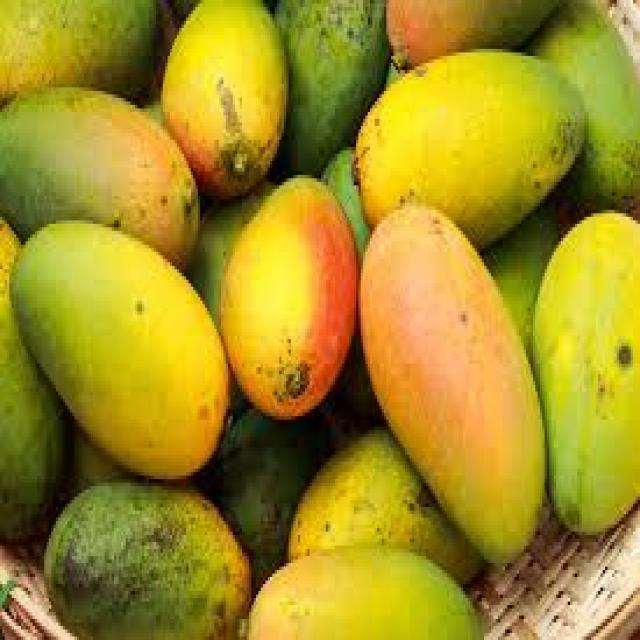Mango: (360, 208, 546, 562), (11, 216, 230, 473), (350, 48, 588, 234), (3, 84, 203, 266), (41, 476, 251, 640), (539, 211, 640, 540), (222, 177, 356, 416), (160, 0, 288, 191), (0, 210, 71, 544), (248, 550, 486, 640), (383, 0, 574, 67)
